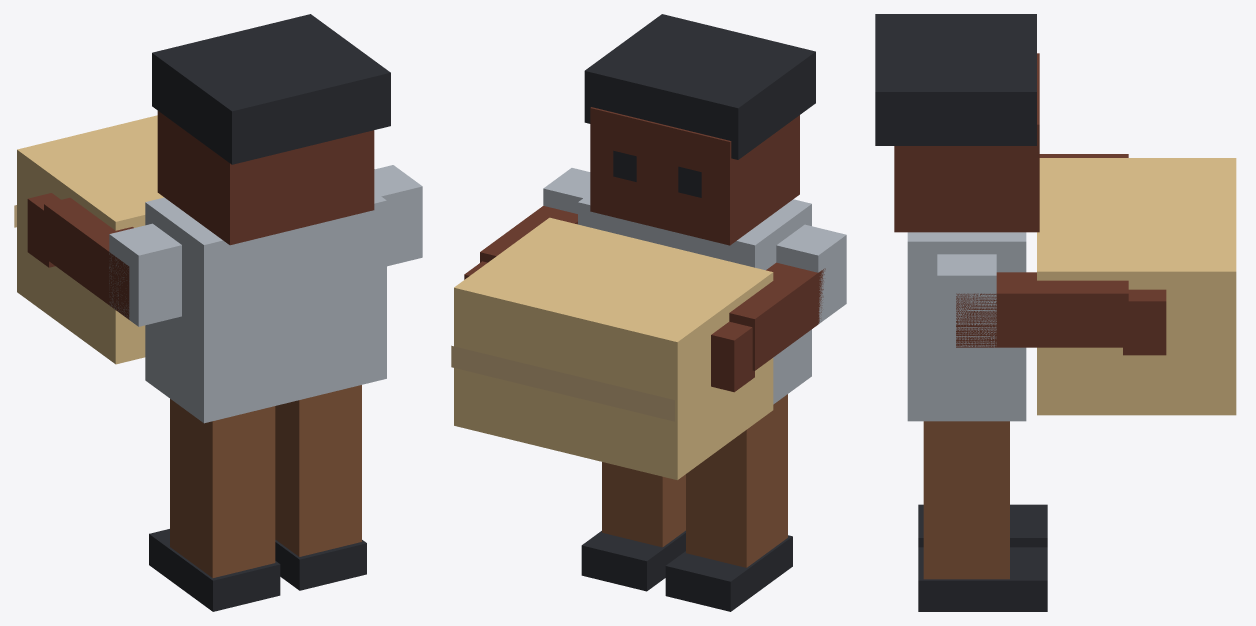
Rendered from H_Mover.fbx.
The picture shows the model from 3 angles, left to right: view 1: azimuth 30°, elevation 25°; view 2: azimuth 150°, elevation 25°; view 3: azimuth 270°, elevation 25°; orthographic projection. The views are drawn at different scales.
Visible parts, largest first — view 1: H_Mover; view 2: H_Mover; view 3: H_Mover.
Boxes of the visible parts, bbox=[...] form: H_Mover: bbox=[14, 14, 422, 611]; H_Mover: bbox=[451, 14, 846, 611]; H_Mover: bbox=[875, 14, 1236, 611].
Bounding box in the file's own units: 0.767 × 1.33 × 0.85.
